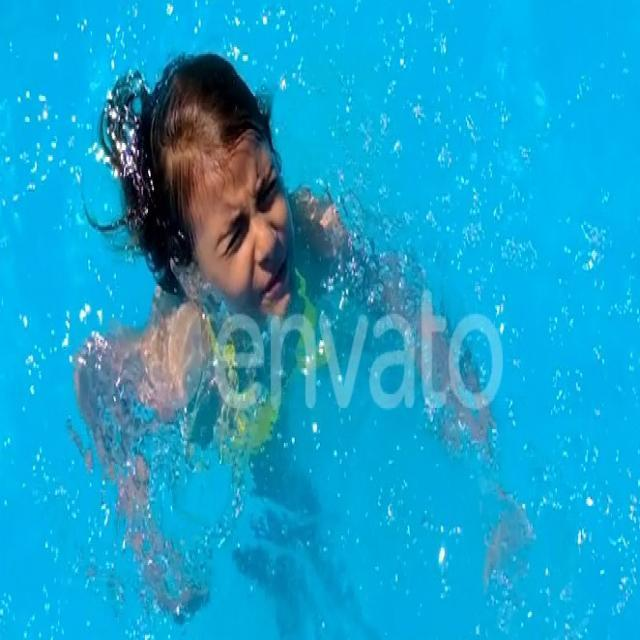Drowning: (66, 53, 413, 350)
